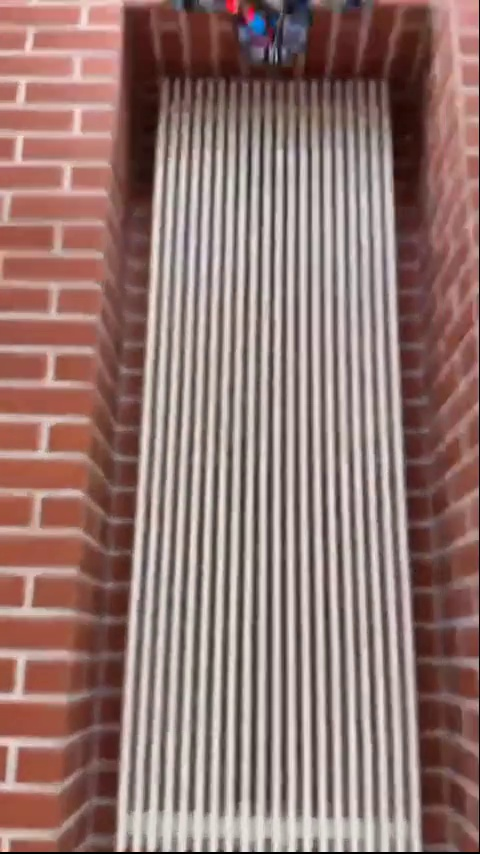drone: (178, 0, 377, 73)
